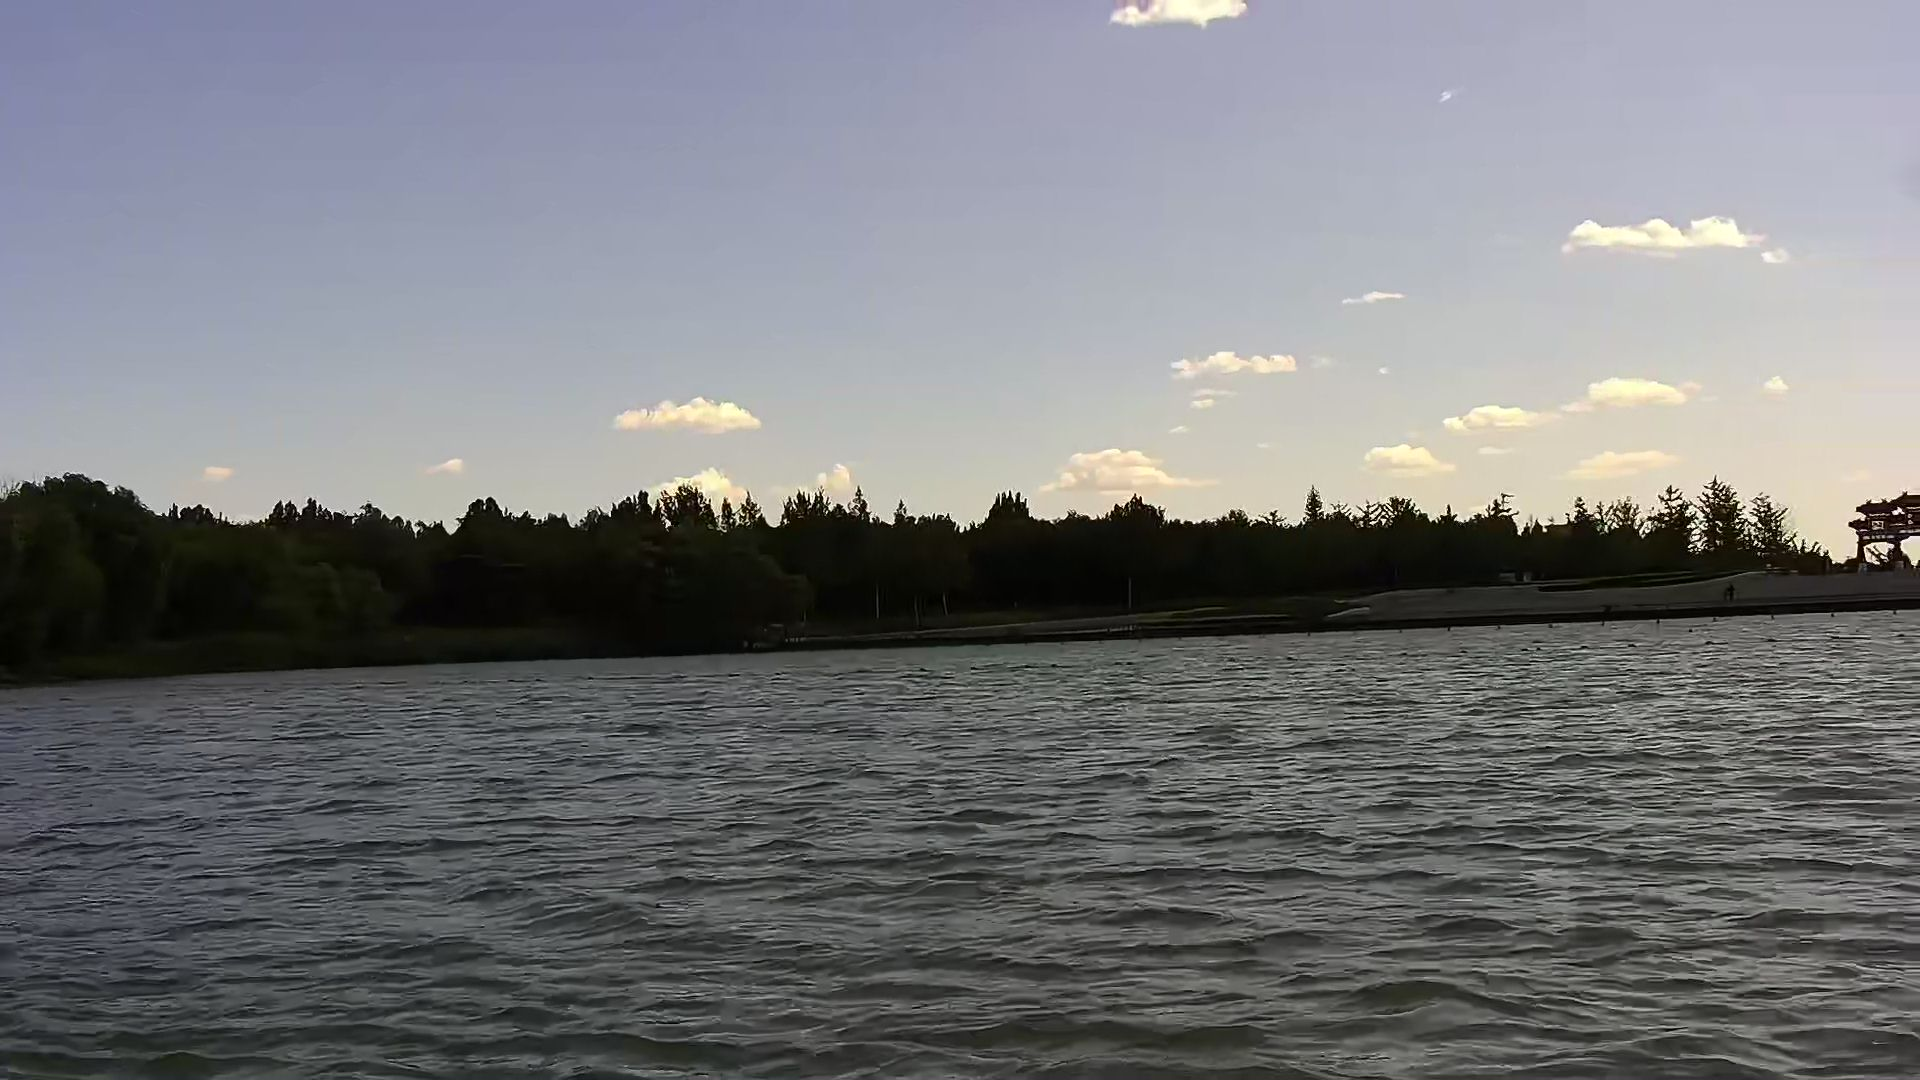harbor: (764, 553, 1920, 644)
